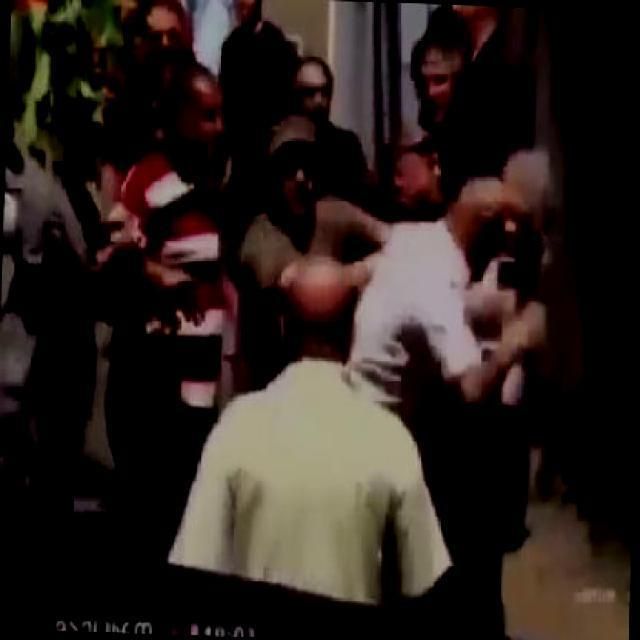fight: (252, 111, 546, 372)
